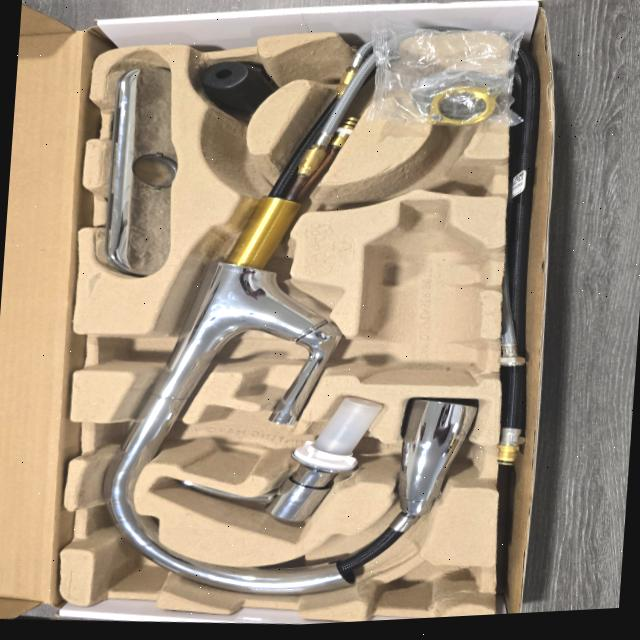1: (101, 40, 476, 595)
2: (180, 395, 384, 522)
3m: (359, 199, 486, 386)
4: (102, 67, 179, 278)
5: (193, 60, 275, 120)
6: (369, 17, 528, 126)
7m: (363, 137, 498, 203)
